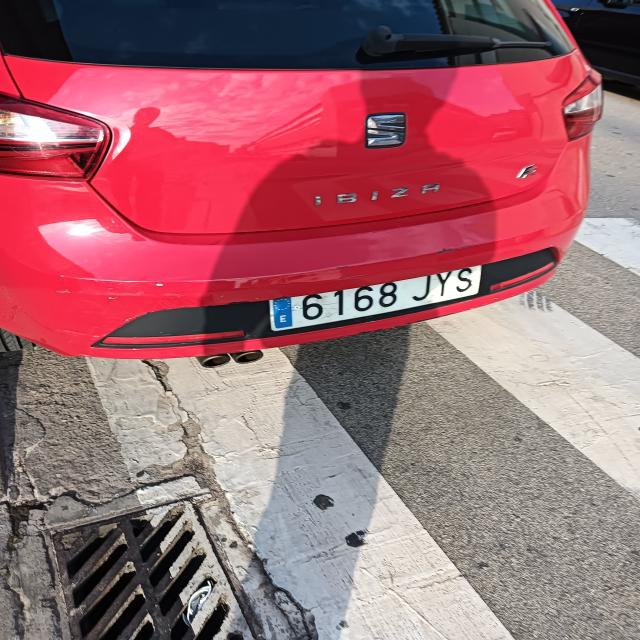license_plate-34Td: (268, 265, 481, 332)
